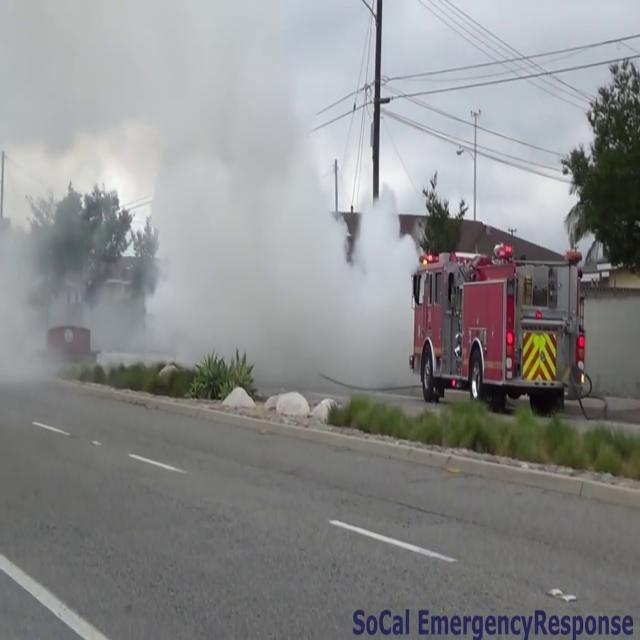Smoke: (142, 29, 420, 386), (0, 159, 142, 403)
